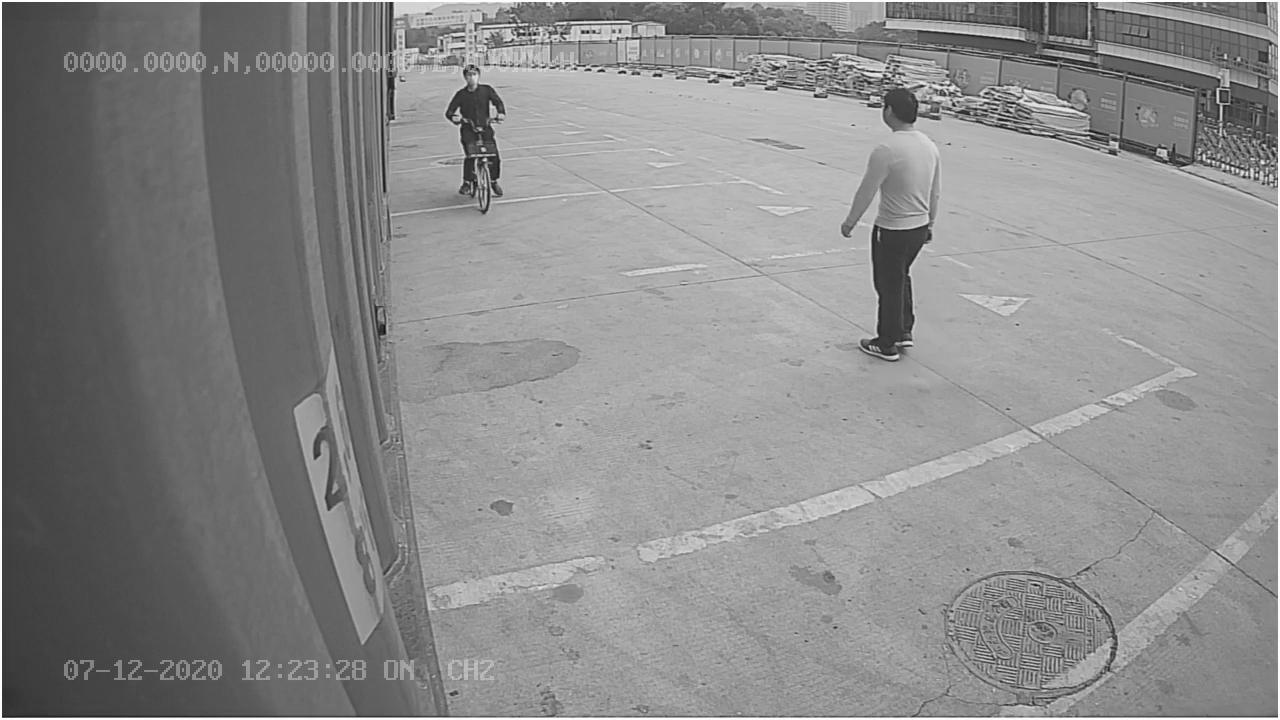person: (838, 86, 945, 365)
